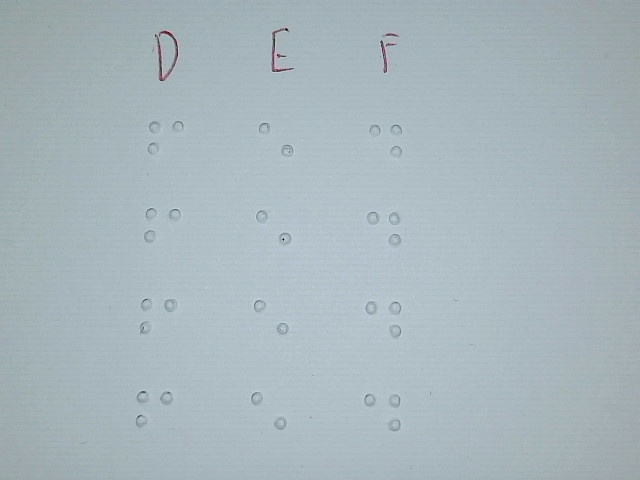D: (365, 111, 406, 183), (363, 198, 404, 270), (363, 287, 404, 359), (362, 379, 403, 451)
E: (257, 108, 298, 180), (254, 195, 295, 267), (250, 287, 291, 359), (248, 379, 289, 451)
F: (146, 108, 187, 180), (143, 194, 184, 266), (138, 285, 179, 357), (134, 376, 175, 448)
